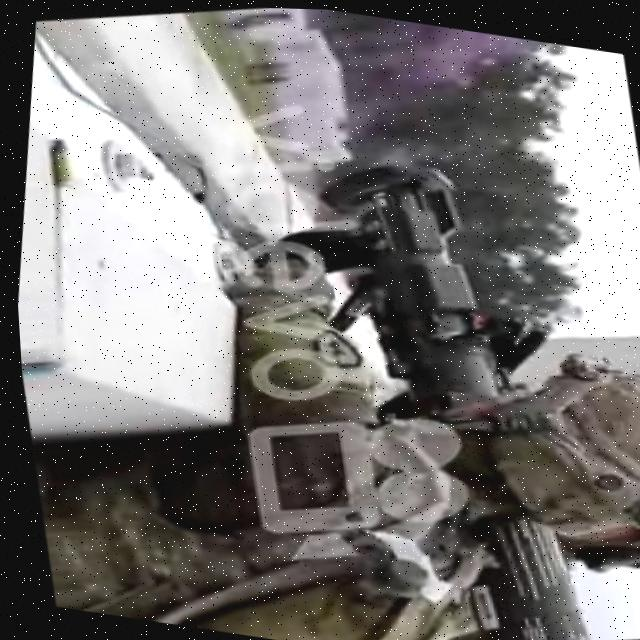rocket: (259, 128, 640, 640)
